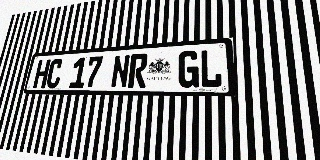1: (69, 57, 88, 88)
7: (84, 56, 103, 88)
C: (45, 59, 64, 88)
G: (178, 50, 199, 88)
H: (33, 59, 51, 88)
L: (200, 49, 222, 88)
N: (110, 54, 131, 88)
R: (128, 53, 148, 88)
